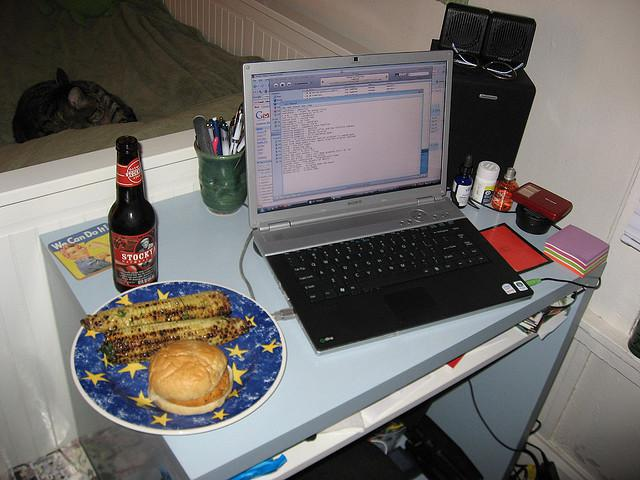tv: (232, 40, 462, 230)
